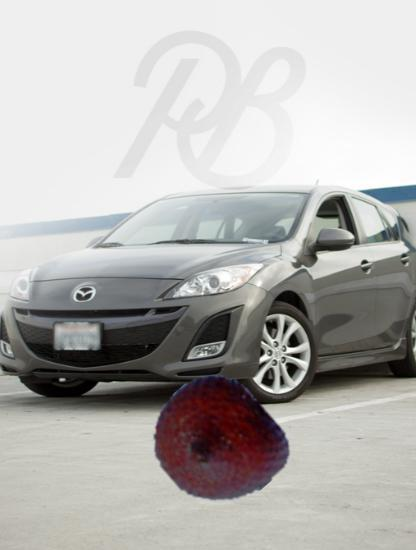Salak: (152, 376, 283, 507)
